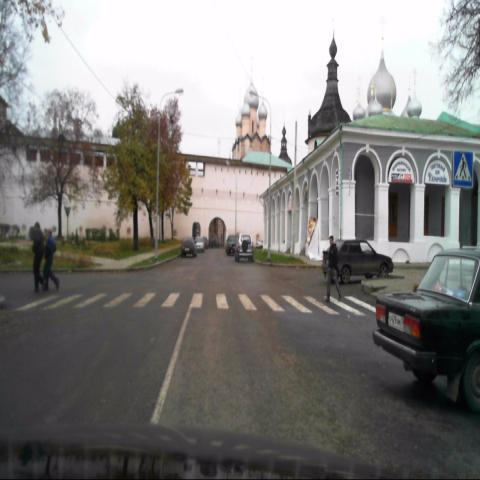5_19_1: (452, 148, 474, 191)
